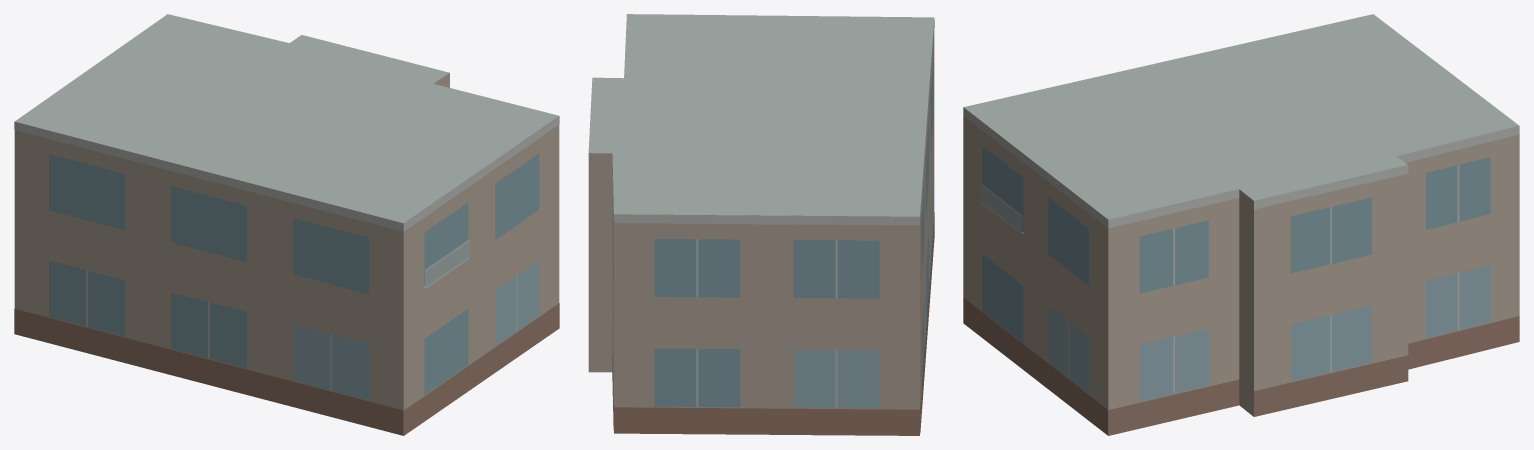
File: survey-upis-32715242.glb
3 views of the same model, side by side, from view 1: azimuth 30°, elevation 25°; view 2: azimuth 150°, elevation 25°; view 3: azimuth 270°, elevation 25° (orthographic). The views are drawn at different scales.
Visible parts, largest first — view 1: survey-upis-32715242.tmp; view 2: survey-upis-32715242.tmp; view 3: survey-upis-32715242.tmp.
Part boxes in pixels (x1,y1,x2,y2): survey-upis-32715242.tmp: (14,14,559,435); survey-upis-32715242.tmp: (588,14,934,435); survey-upis-32715242.tmp: (963,14,1519,435).
Bounding box in the file's own units: 12.46 × 6.1 × 14.23.
